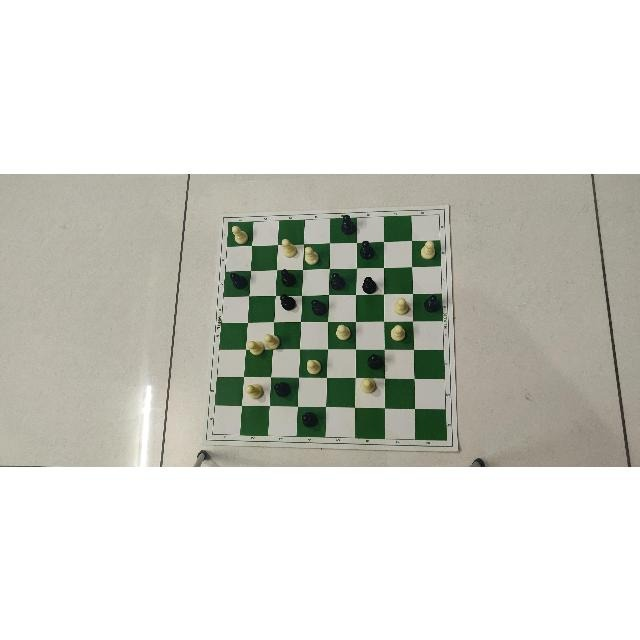black-pawn: (228, 267, 248, 291), (279, 267, 300, 287), (359, 238, 377, 258), (330, 270, 348, 290), (425, 292, 441, 314), (278, 291, 296, 310), (367, 350, 385, 369), (302, 409, 320, 428), (273, 379, 293, 396), (310, 296, 327, 315), (362, 273, 378, 292), (340, 215, 356, 233)
white-pawn: (229, 222, 250, 243), (389, 322, 407, 342), (245, 380, 263, 399), (335, 321, 352, 341), (279, 237, 296, 256), (421, 239, 437, 259), (264, 331, 280, 351), (247, 338, 264, 356), (305, 356, 323, 373), (394, 296, 410, 314), (360, 377, 378, 393), (305, 244, 319, 263)
